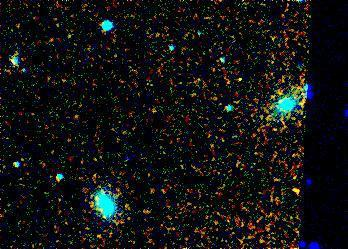star: (280, 176, 310, 206)
